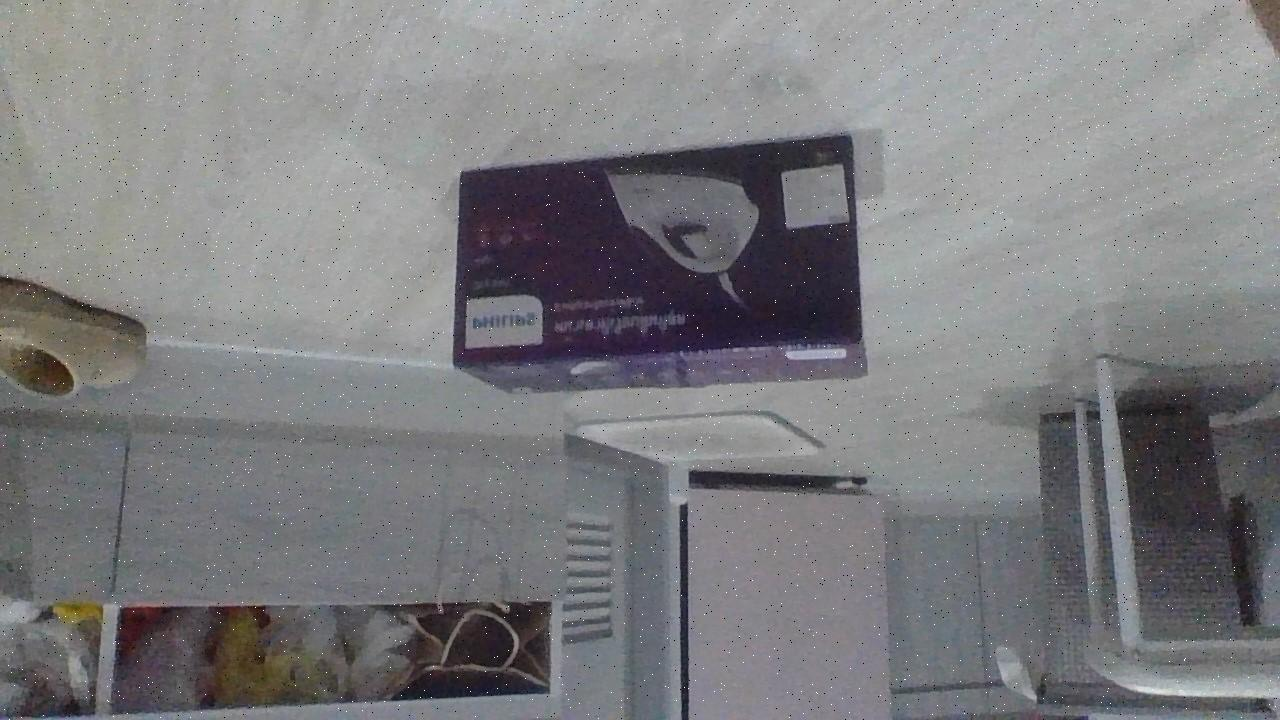IRON: (447, 131, 872, 400)
